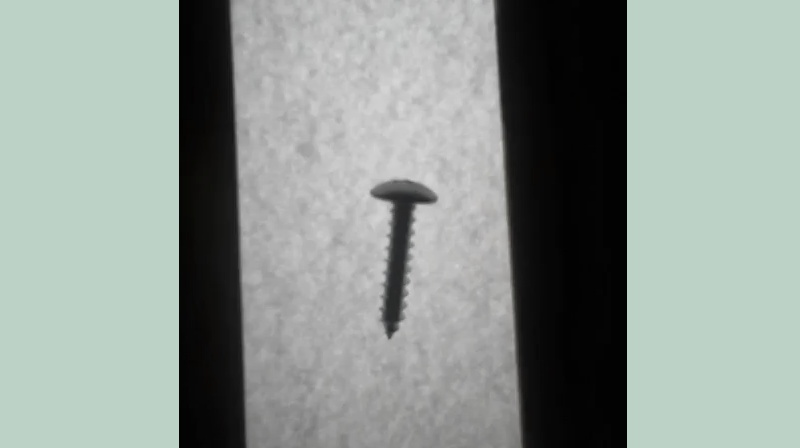S003: (362, 174, 440, 342)
